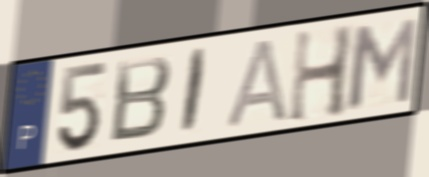5: (54, 58, 109, 155)
A: (224, 35, 290, 130)
B: (108, 52, 174, 146)
H: (286, 22, 357, 127)
I: (177, 44, 210, 138)
M: (346, 14, 420, 113)
